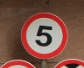speed_limit_5: (20, 12, 68, 59)
